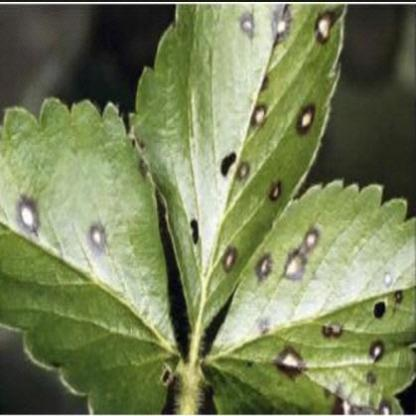Strawberry_Leaf_Spot: (127, 3, 348, 339), (0, 95, 182, 415), (201, 179, 415, 415)
